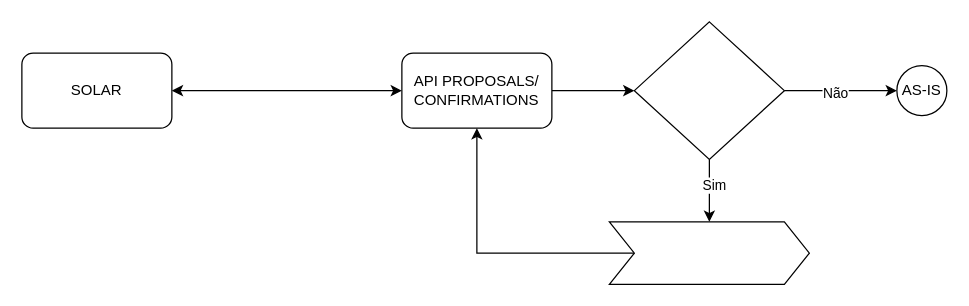
The diagram is 969 pixels wide and 306 high, and some of its shapes have lost their labels. Here are the shapes that lost their labels. From the top down, the box of each, then its label:
(633, 21, 784, 159): HP possui dívida ativa na Claro?
(608, 221, 809, 284): Não cria proposta e devolve mensagem de dívida para Solar
